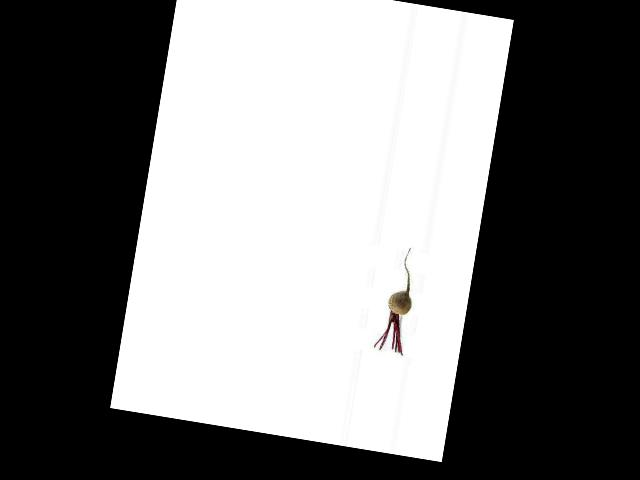beet: (374, 244, 420, 354)
